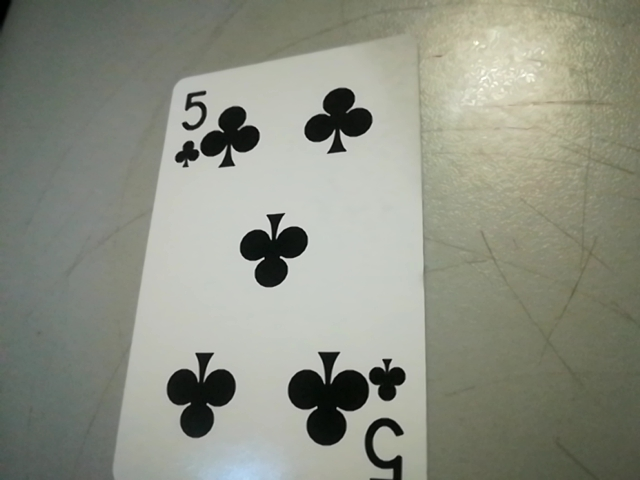mh 5: (357, 352, 423, 480), (166, 88, 213, 168)
